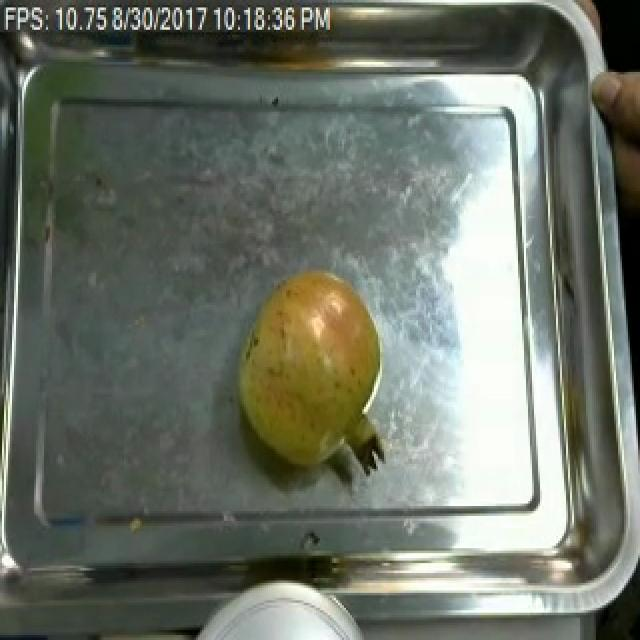fruit: (226, 258, 392, 481)
